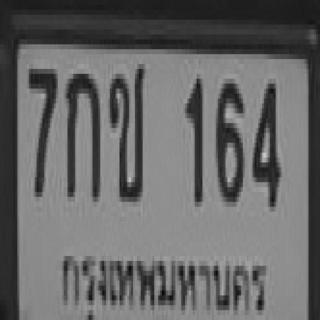A01: (64, 66, 98, 195)
A10: (108, 59, 143, 197)
N01: (183, 74, 200, 202)
N04: (250, 76, 278, 204)
N06: (214, 74, 241, 197)
N07: (27, 64, 56, 192)
P04: (55, 237, 272, 320)
